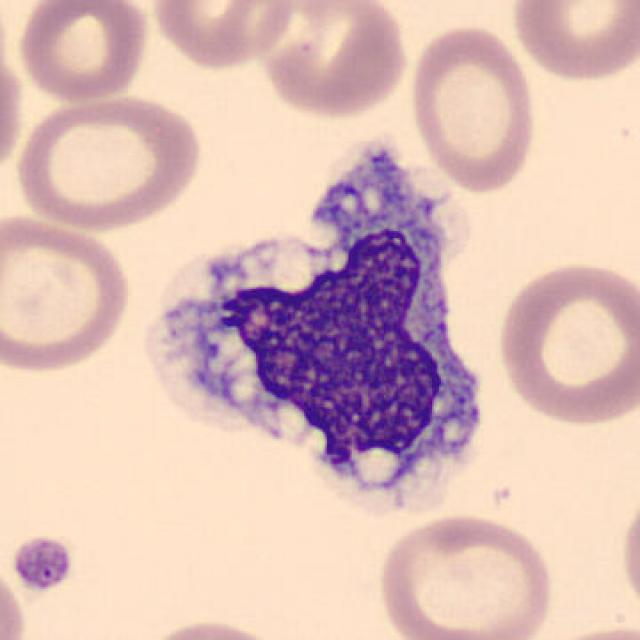Monocyte: (130, 152, 498, 532)
Platelets: (7, 532, 78, 596)
RBC: (11, 90, 208, 234), (492, 256, 638, 430), (371, 509, 558, 640), (406, 21, 540, 196), (0, 208, 137, 377), (255, 0, 412, 122), (12, 0, 153, 104), (507, 0, 638, 85), (147, 0, 298, 72), (129, 613, 298, 640), (0, 22, 28, 183), (615, 480, 640, 624), (0, 557, 30, 640), (529, 620, 638, 640)
